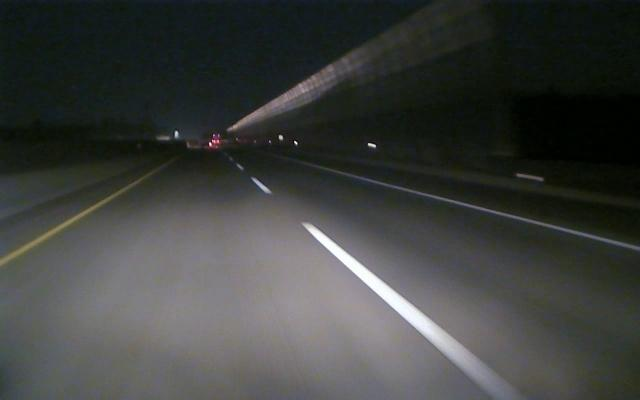lane: (249, 177, 525, 399), (307, 163, 640, 252), (2, 178, 143, 265)
